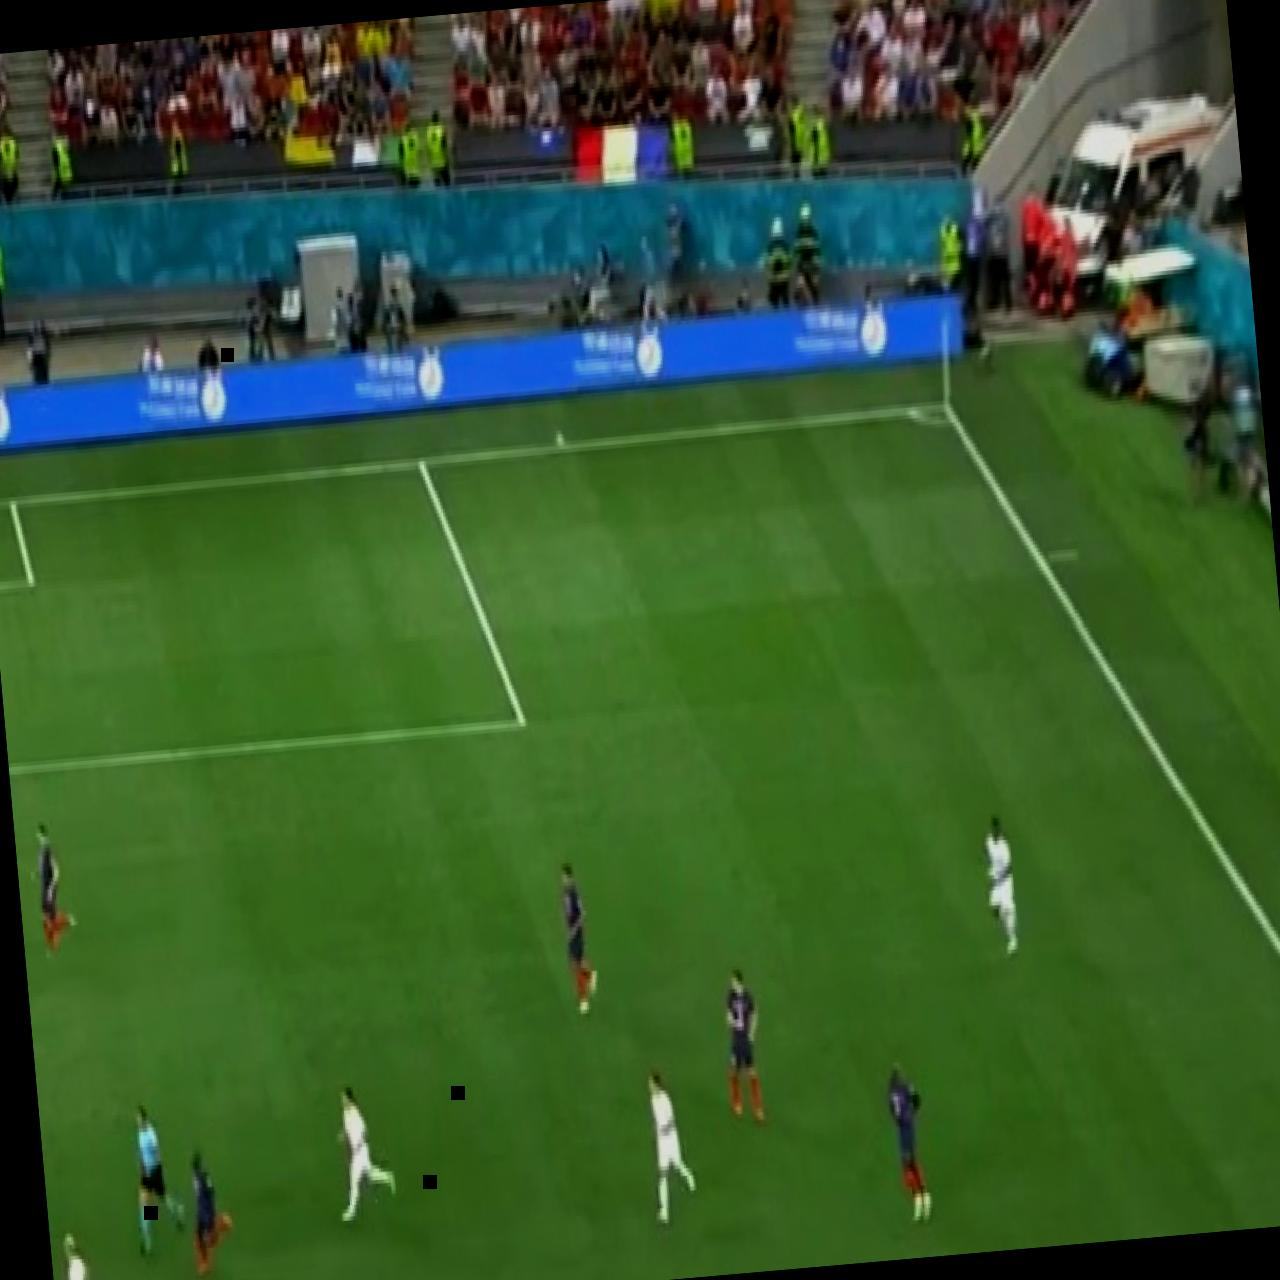football: (124, 1096, 188, 1256), (329, 1080, 400, 1224), (641, 1068, 700, 1228), (883, 1058, 934, 1226), (718, 965, 768, 1127), (24, 819, 80, 961), (185, 1141, 239, 1279), (557, 858, 601, 1018), (981, 814, 1022, 958), (55, 1229, 122, 1280)
